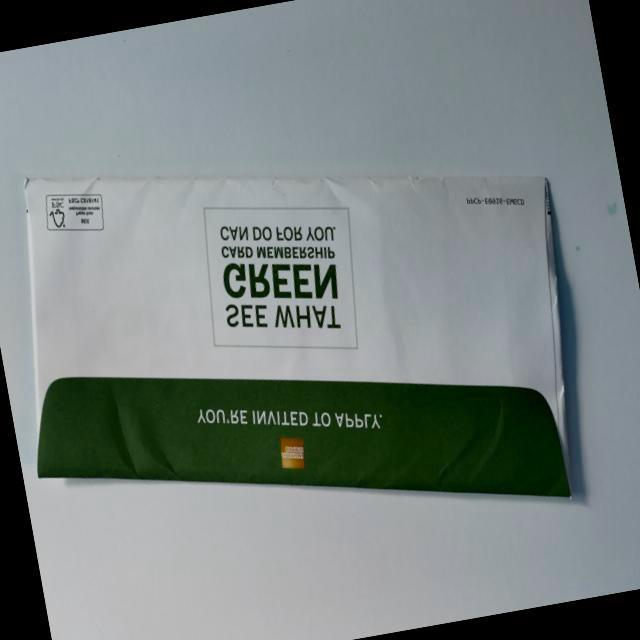paper: (0, 79, 618, 605)
